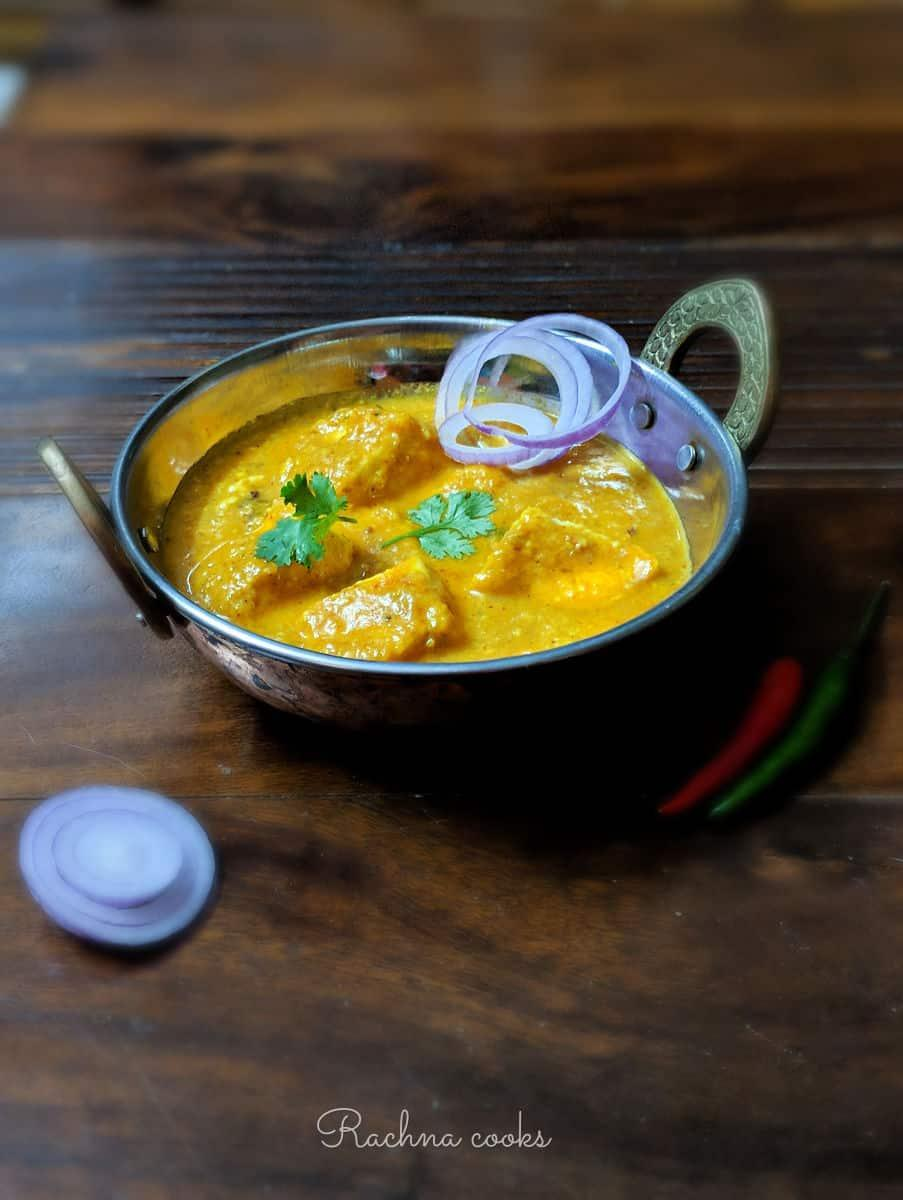paneer: (234, 438, 481, 612)
